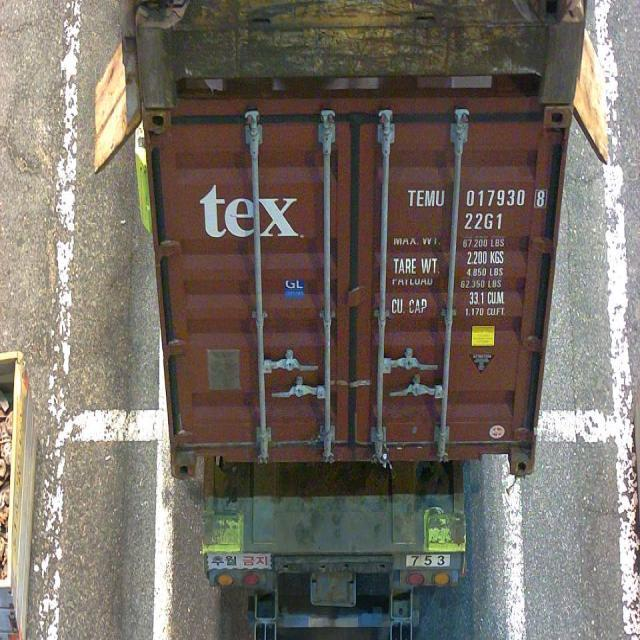ISO: (464, 210, 504, 230)
container_number: (403, 183, 548, 210)
